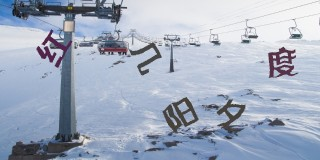几: (129, 42, 163, 75)
夕: (216, 98, 246, 128)
度: (267, 44, 299, 77)
红: (36, 28, 73, 68)
阳: (161, 94, 199, 133)
